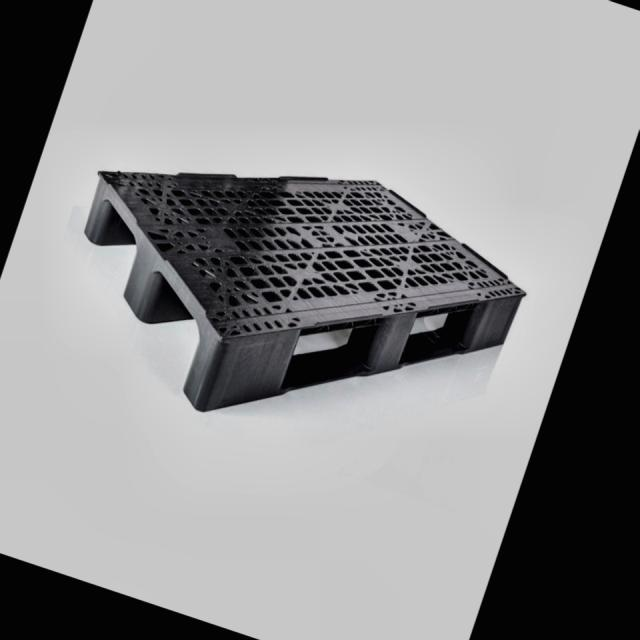non-igps: (76, 164, 531, 418)
